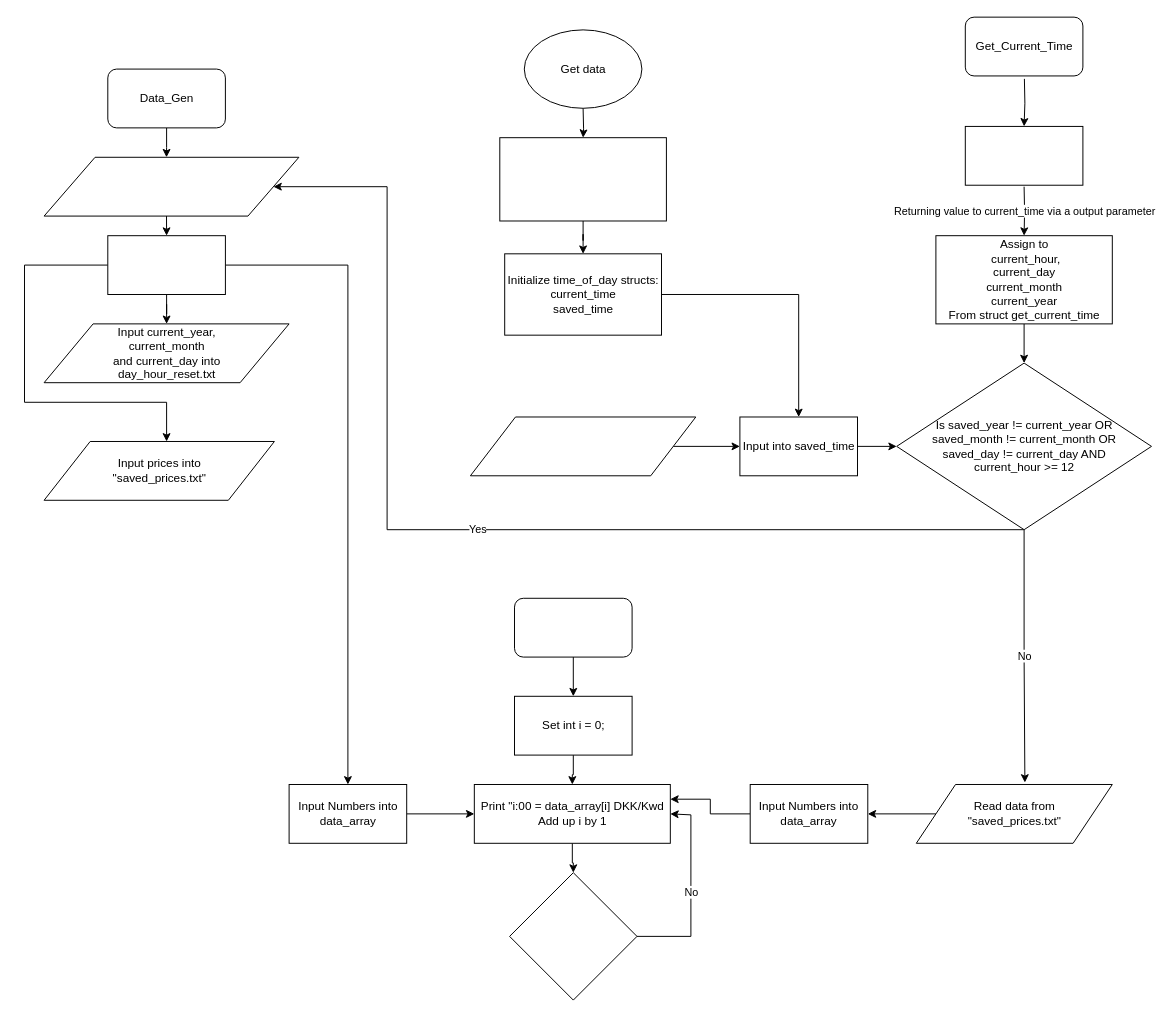
Some shapes in this 1172 by 1017 pixel diagram are drawn without their labels. The shapes that lost their labels are listed below. From the top down, each one's centre as x and y in pixels, then its label:
point (1023, 155): Use struct tm from time.h to find, hour, day, month and year
point (171, 186): Get 48 doubles from seed_data.txt And place them into data_array
point (582, 179): Define struct time_of_day with members: int hour int day int month int year
point (166, 264): Multiply all 48 prices by a random number between 0.9 and 1.1
point (582, 446): Get saved_year, saved_month and saved_day from Time_Of_Last_Data_Gen.txt
point (573, 627): Print_Data_Array
point (573, 936): Is I greater than 48 ?
